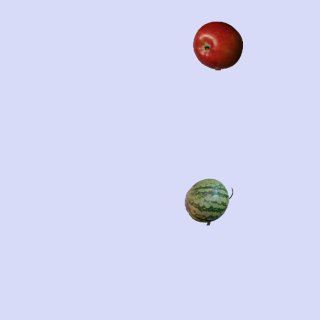Apple Braeburn: (192, 20, 242, 70)
Watermelon: (183, 176, 233, 226)
